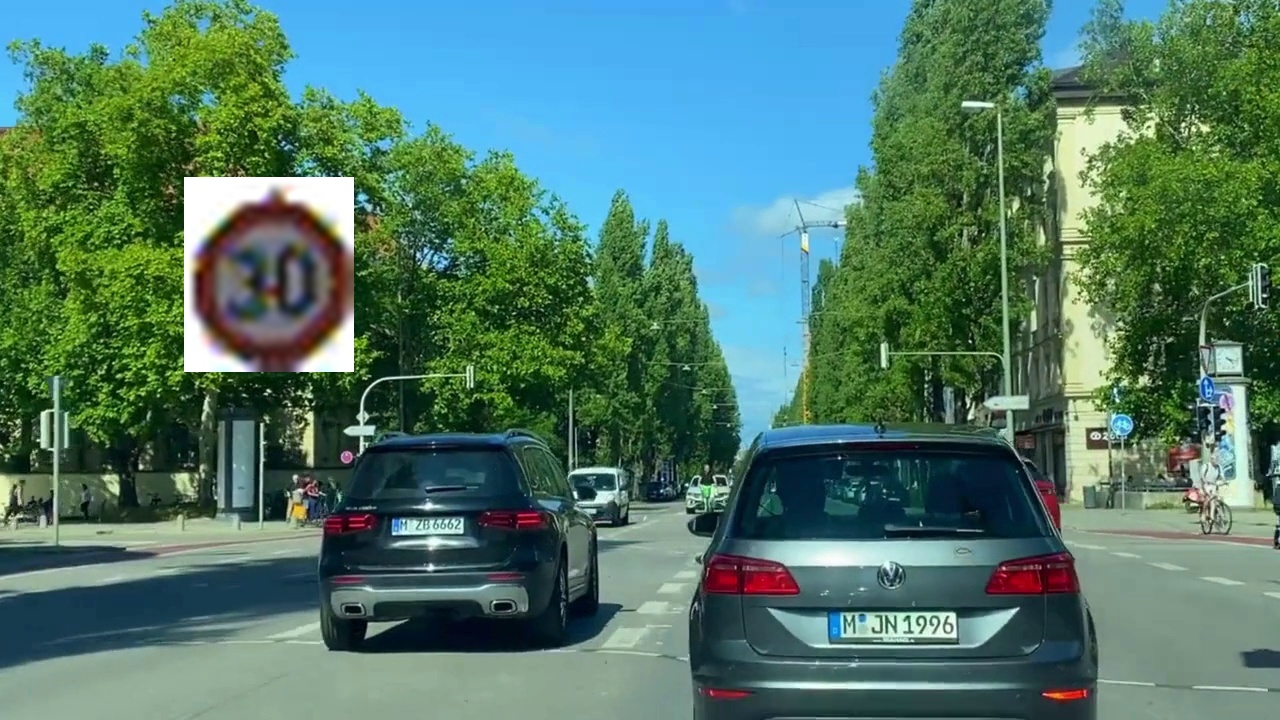Speed 30: (184, 177, 354, 372)
